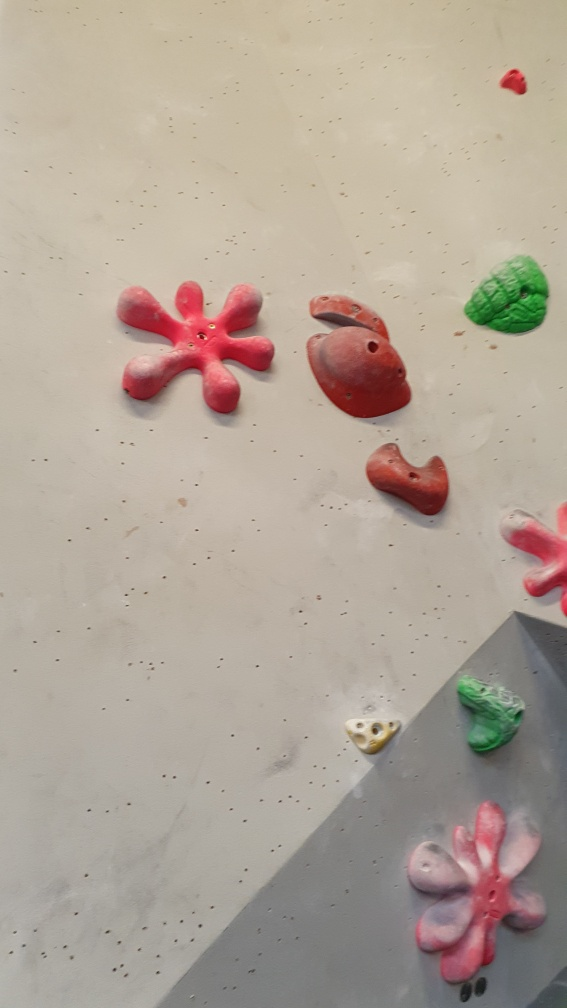Octopus Pinch: (411, 799, 551, 987), (108, 270, 279, 422), (510, 483, 567, 621)
